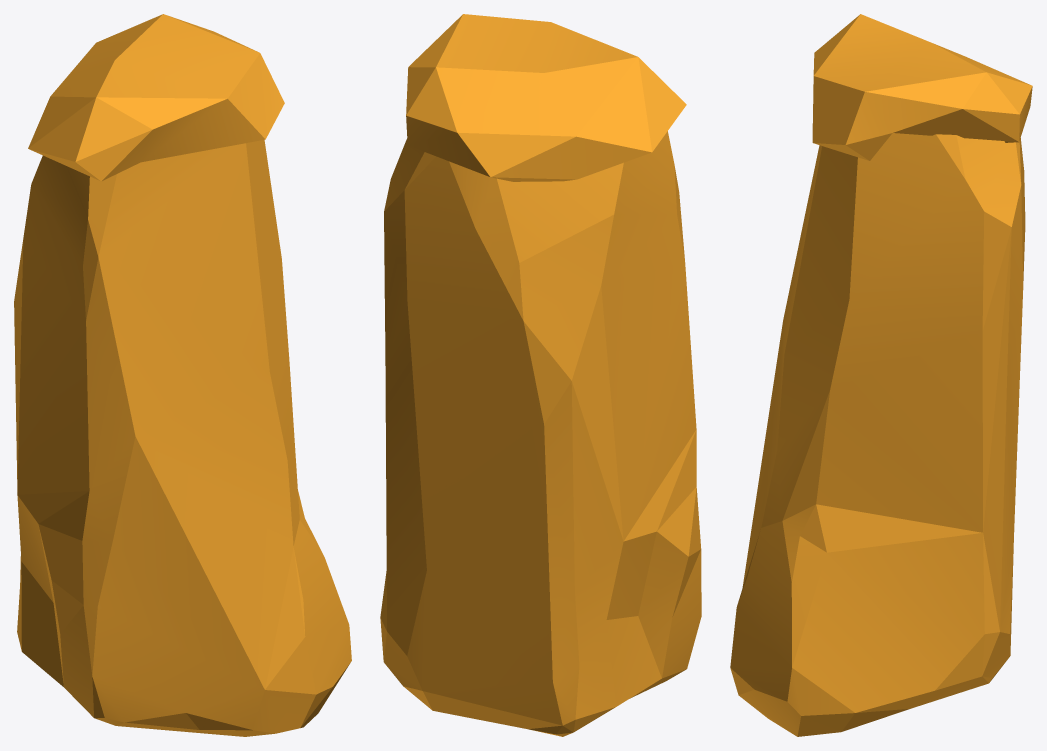
File: SM_Menhir_C_Snow.fbx
3 renders of one model, left to right at view 1: azimuth 30°, elevation 25°; view 2: azimuth 150°, elevation 25°; view 3: azimuth 270°, elevation 25°, orthographic. The views are drawn at different scales.
Visible parts, largest first — view 1: menhir-c-snow; view 2: menhir-c-snow; view 3: menhir-c-snow.
Part boxes in pixels (x1,y1,x2,y2): menhir-c-snow: (14, 14, 351, 736); menhir-c-snow: (380, 14, 701, 736); menhir-c-snow: (730, 14, 1032, 736).
Bounding box in the file's own units: 2.09 × 4.84 × 2.09.
